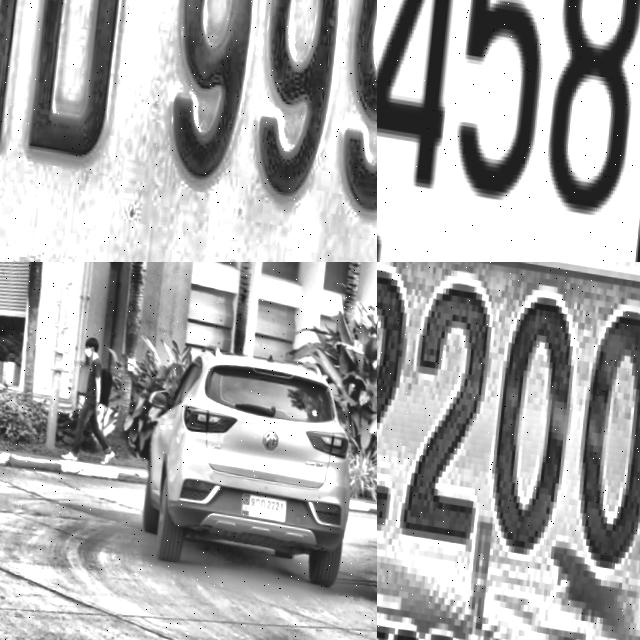license-plate: (377, 262, 640, 640), (0, 0, 377, 262), (377, 0, 640, 262), (242, 482, 293, 518)
